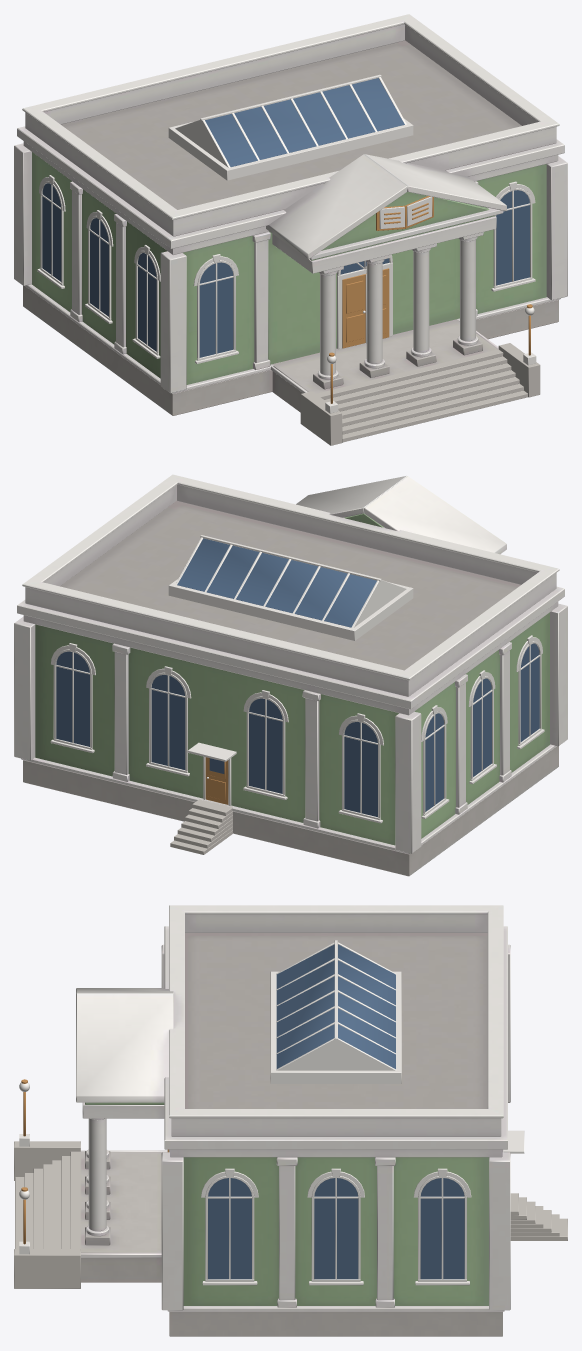
File: library.glb
The picture shows the model from 3 angles, top to bottom: view 1: azimuth 30°, elevation 25°; view 2: azimuth 150°, elevation 25°; view 3: azimuth 270°, elevation 25°; orthographic projection. The views are drawn at different scales.
Visible parts, largest first — view 1: library_body, library_details, library_book_emblem; view 2: library_body, library_details; view 3: library_body, library_details.
Part boxes in pixels (bbox=[...]): library_body: bbox=[14, 14, 567, 415]; library_details: bbox=[37, 74, 540, 445]; library_book_emblem: bbox=[376, 196, 433, 230]; library_body: bbox=[14, 474, 567, 876]; library_details: bbox=[50, 535, 544, 854]; library_body: bbox=[76, 905, 510, 1336]; library_details: bbox=[14, 940, 567, 1288].
Bounding box in the file's own units: 18.8 × 9.82 × 20.32.
Materials: 7 (1 with a texture image).
